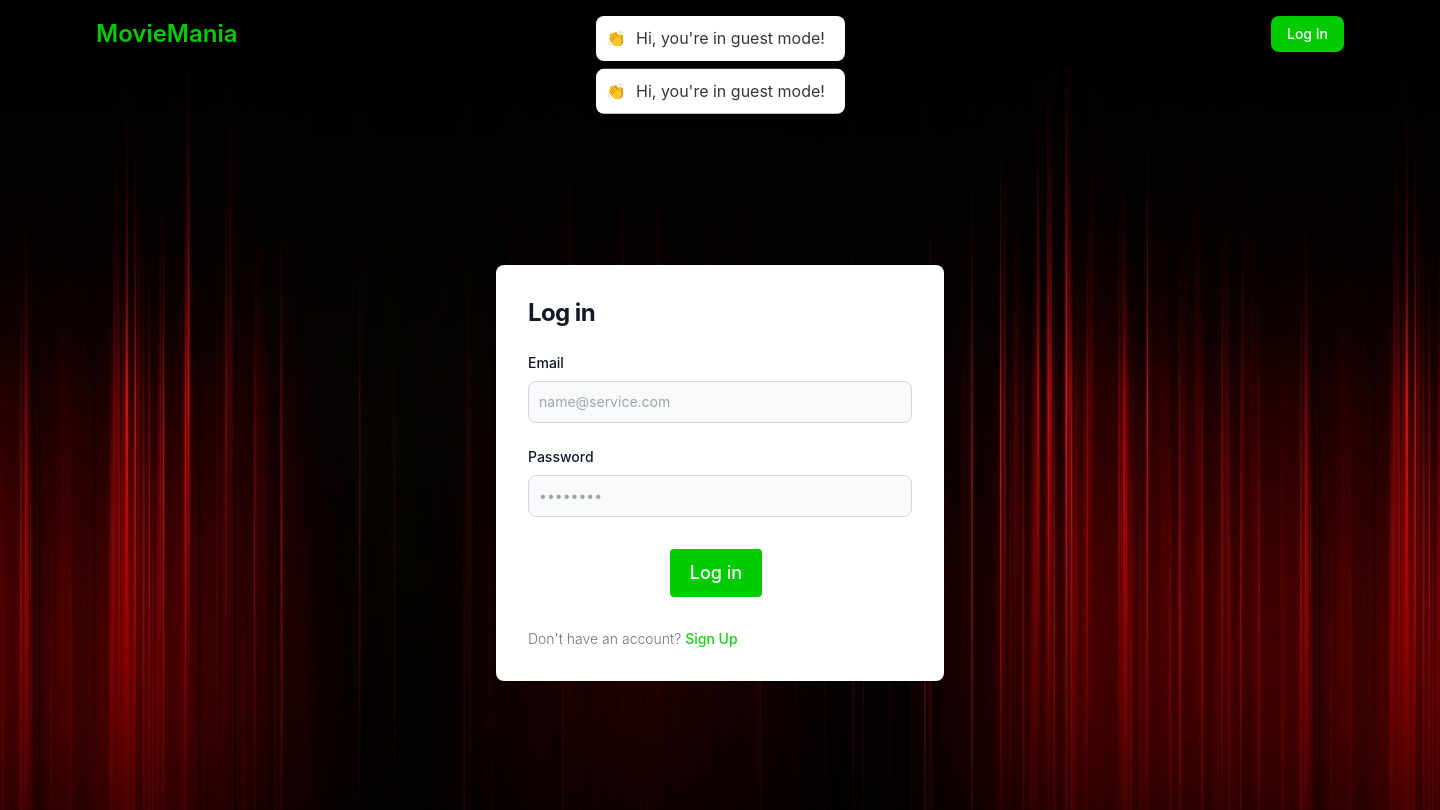
Scenario: LogIn Component Unit and Functional Tests › form validation for invalid email
Click the button "Log in": (716, 573) [670,549,762,597]
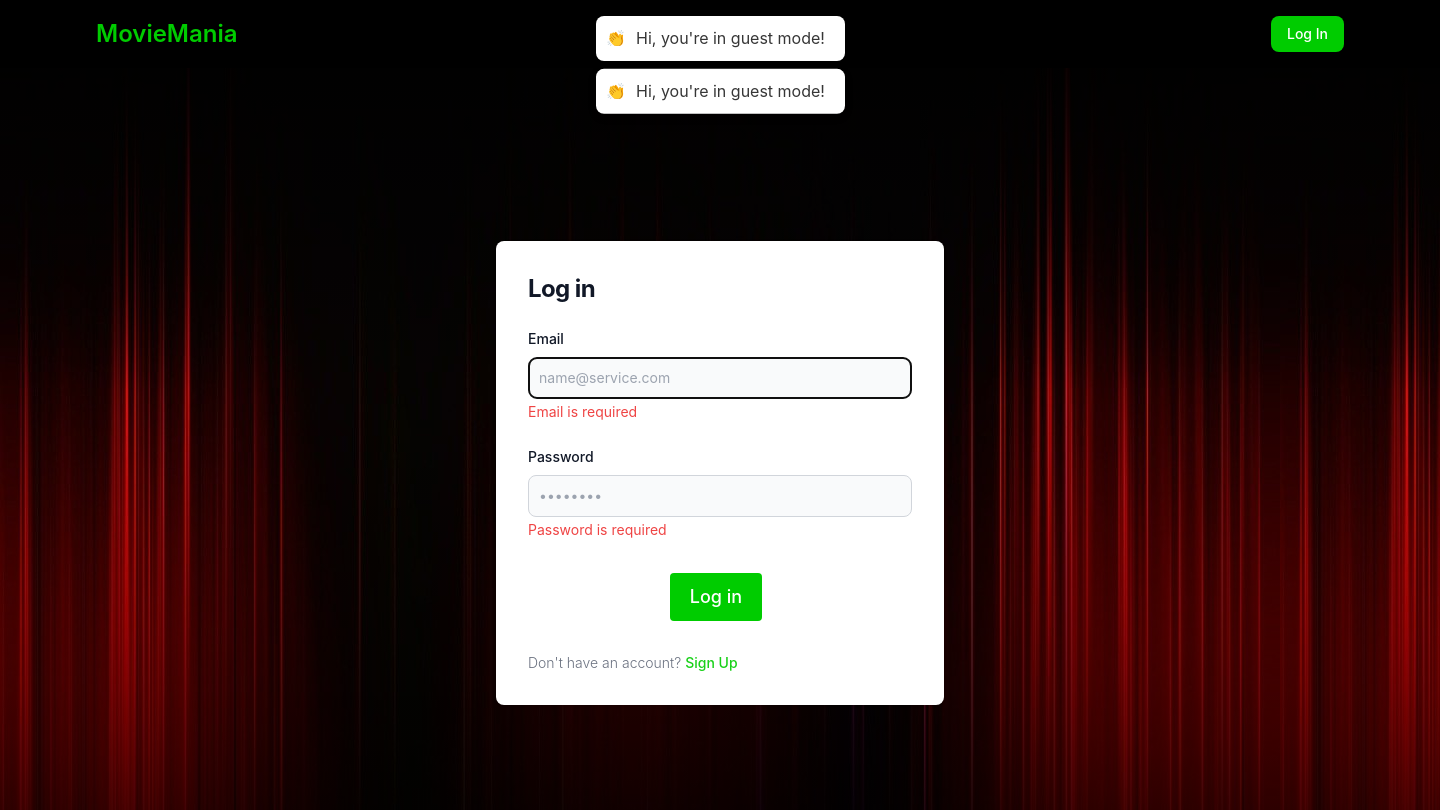
Check: the text "Email is required" is shown, box [528,403,637,420]
